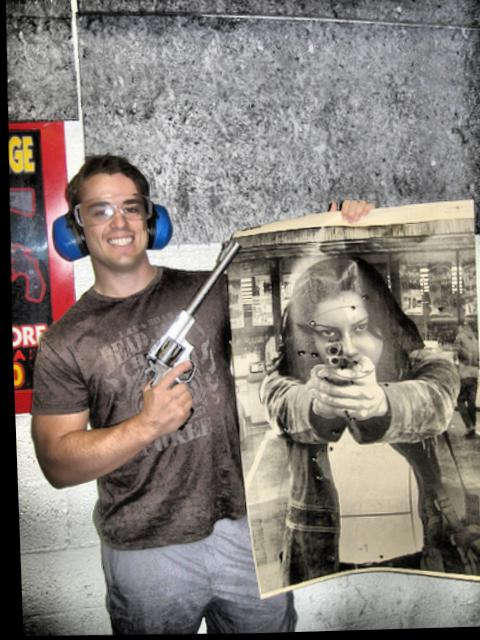pistol: (136, 236, 237, 396), (312, 339, 343, 383)
